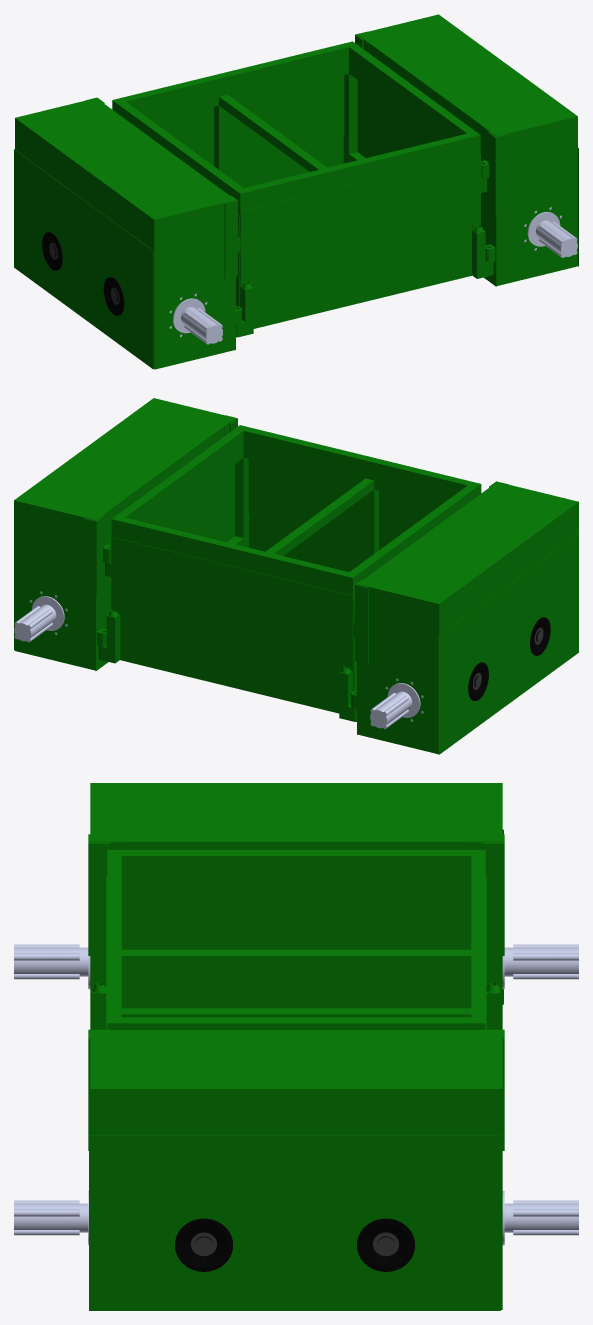
The model's file is Body no motors.obj.
3 renders of one model, top to bottom at view 1: azimuth 30°, elevation 25°; view 2: azimuth 150°, elevation 25°; view 3: azimuth 270°, elevation 25°, orthographic. The views are drawn at different scales.
Parts seen in each view (by area): view 1: Body_no_motors_Body_no_motors_1.002, Body_no_motors_Body_no_motors_5, Body_no_motors_Body_no_motors_4.002, Body_no_motors_Body_no_motors_3.002; view 2: Body_no_motors_Body_no_motors_1.002, Body_no_motors_Body_no_motors_5, Body_no_motors_Body_no_motors_4.002, Body_no_motors_Body_no_motors_3.002; view 3: Body_no_motors_Body_no_motors_1.002, Body_no_motors_Body_no_motors_4.002, Body_no_motors_Body_no_motors_3.002, Body_no_motors_Body_no_motors_2.002.
Boxes of the visible parts, left/top/right/bottom form: Body_no_motors_Body_no_motors_1.002: left=15, top=14, right=578, bottom=369; Body_no_motors_Body_no_motors_5: left=14, top=149, right=153, bottom=369; Body_no_motors_Body_no_motors_4.002: left=169, top=207, right=577, bottom=344; Body_no_motors_Body_no_motors_3.002: left=42, top=232, right=124, bottom=315; Body_no_motors_Body_no_motors_1.002: left=14, top=398, right=578, bottom=754; Body_no_motors_Body_no_motors_5: left=438, top=534, right=578, bottom=754; Body_no_motors_Body_no_motors_4.002: left=14, top=591, right=423, bottom=729; Body_no_motors_Body_no_motors_3.002: left=468, top=617, right=550, bottom=700; Body_no_motors_Body_no_motors_1.002: left=88, top=783, right=504, bottom=1310; Body_no_motors_Body_no_motors_4.002: left=14, top=944, right=578, bottom=1245; Body_no_motors_Body_no_motors_3.002: left=175, top=1218, right=415, bottom=1271; Body_no_motors_Body_no_motors_2.002: left=191, top=1232, right=398, bottom=1256.
Bounding box in the file's own units: 1 × 0.337 × 0.776.
